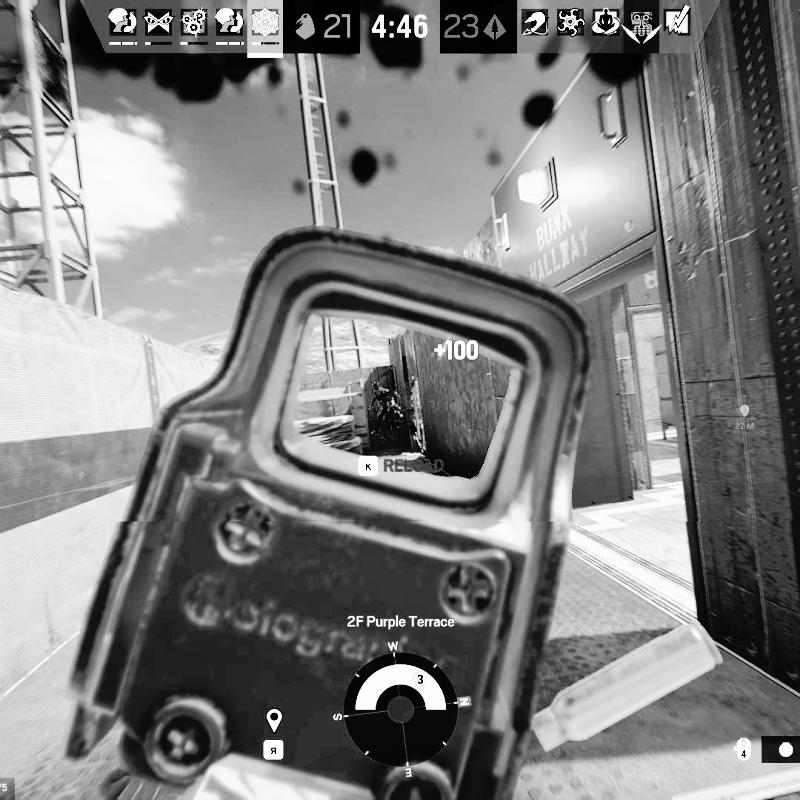Character: (367, 381, 406, 436)
Head: (371, 381, 380, 391)
